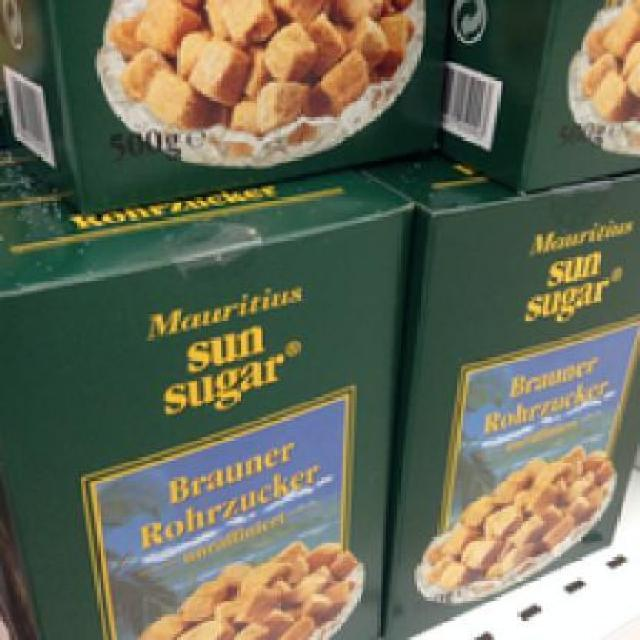Sugar: (6, 177, 392, 634), (380, 166, 637, 620)
